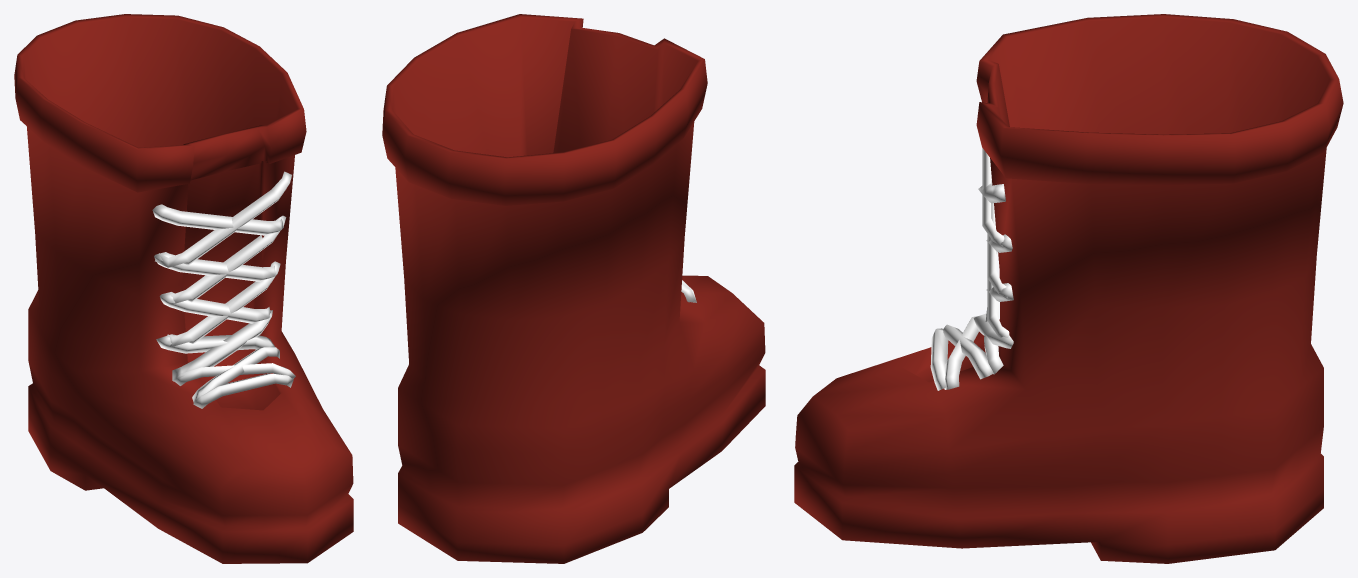
The model's file is laceupbootsright2.fbx.
3 views of the same model, side by side, from view 1: azimuth 30°, elevation 25°; view 2: azimuth 150°, elevation 25°; view 3: azimuth 270°, elevation 25° (orthographic). The views are drawn at different scales.
Visible parts, largest first — view 1: LaceUpBootsRight; view 2: LaceUpBootsRight; view 3: LaceUpBootsRight.
Boxes of the visible parts, <box> form: LaceUpBootsRight: <box>14,14,353,563</box>; LaceUpBootsRight: <box>382,14,765,563</box>; LaceUpBootsRight: <box>794,14,1343,563</box>.
Bounding box in the file's own units: 24.91 × 46.45 × 40.42.
